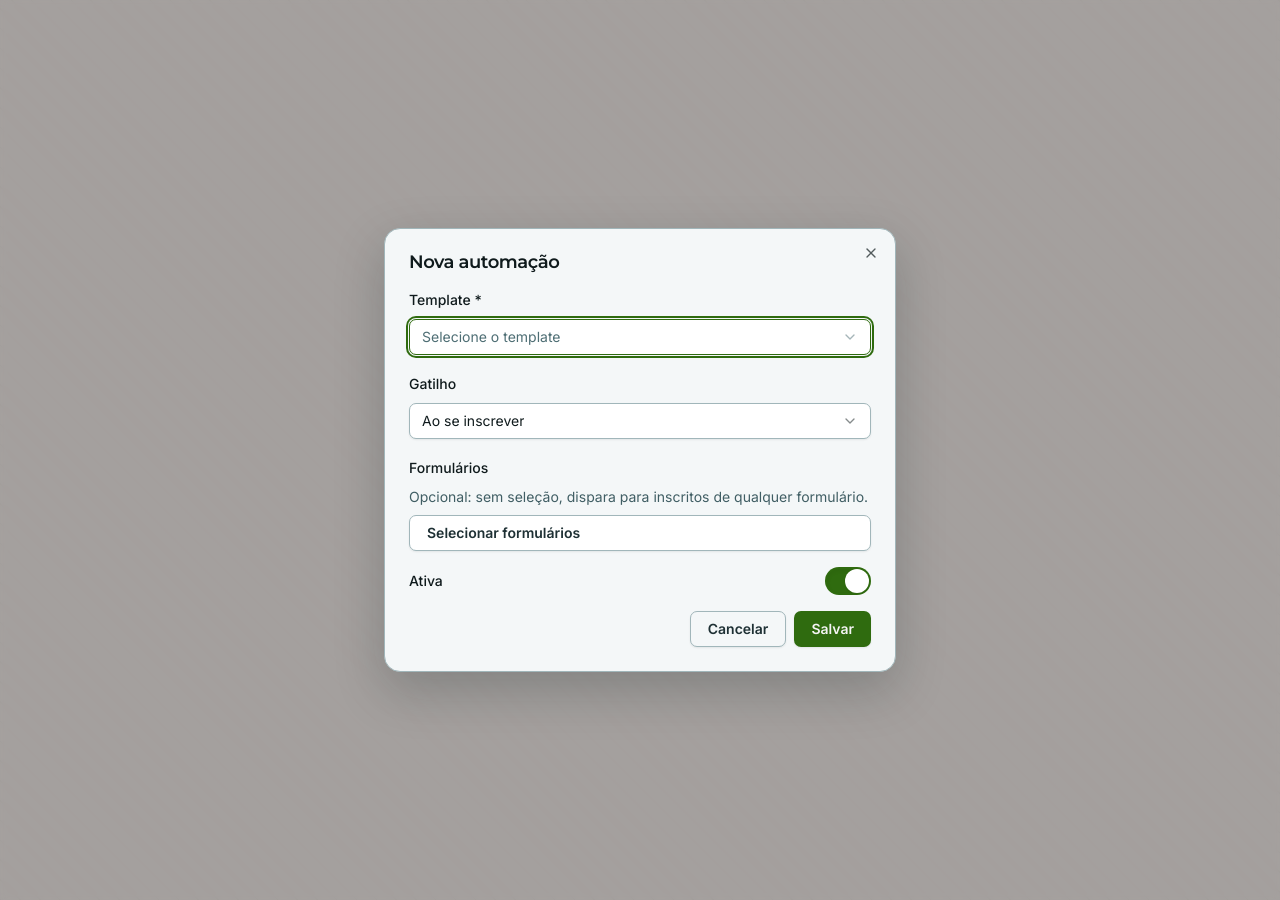
EventAutomationDialog — seletor de templates › exibe somente templates que pertencem ao evento atual
The width and height of the screenshot is (1280, 900).
What coordinates should you click on to do the following:
click the dropdown labelled "Selecione o template"
I would click on:
 (491, 336)
Its box is 409,319 -> 871,355.
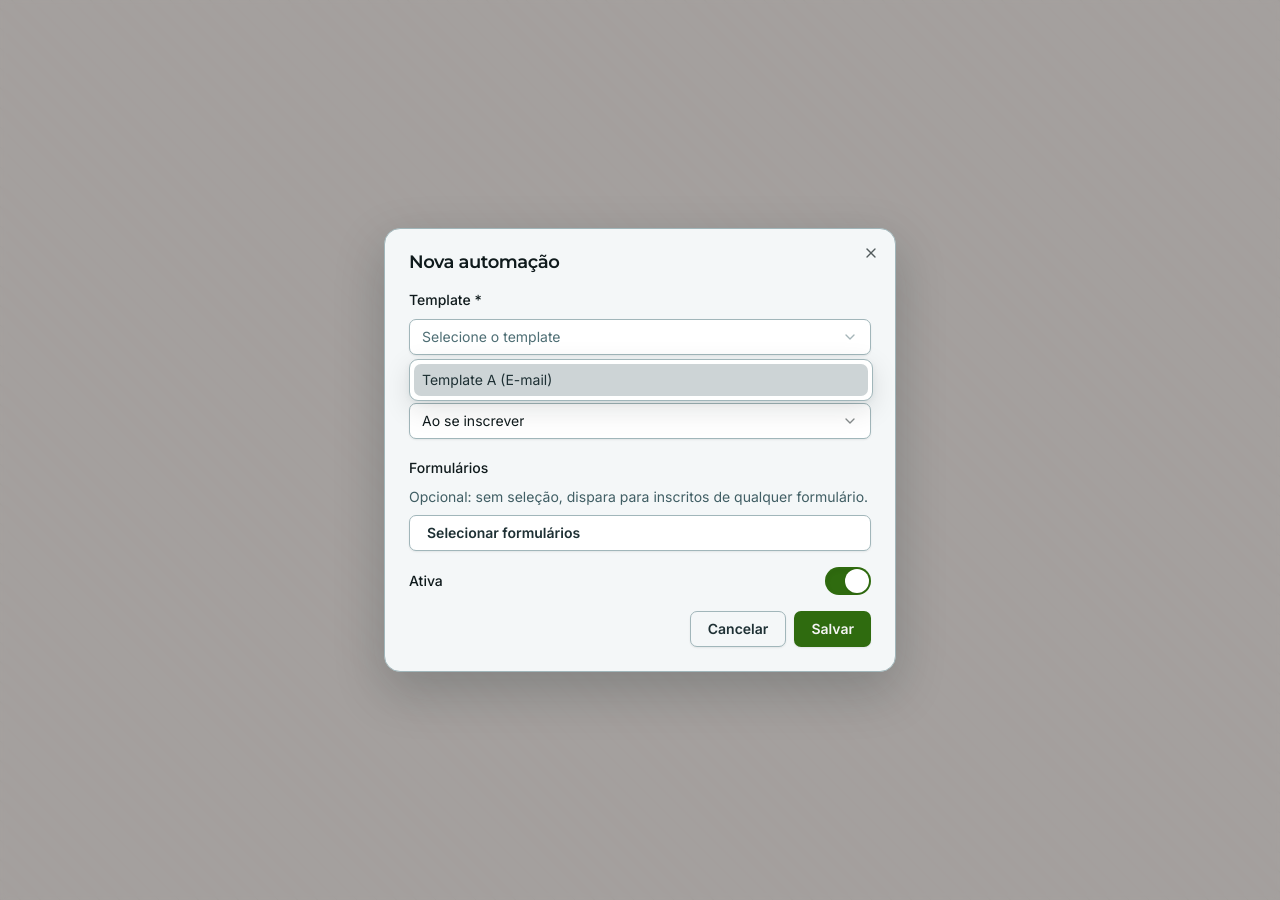
Expected: the option "Template A (E-mail)" is shown, 414,364 -> 868,396
